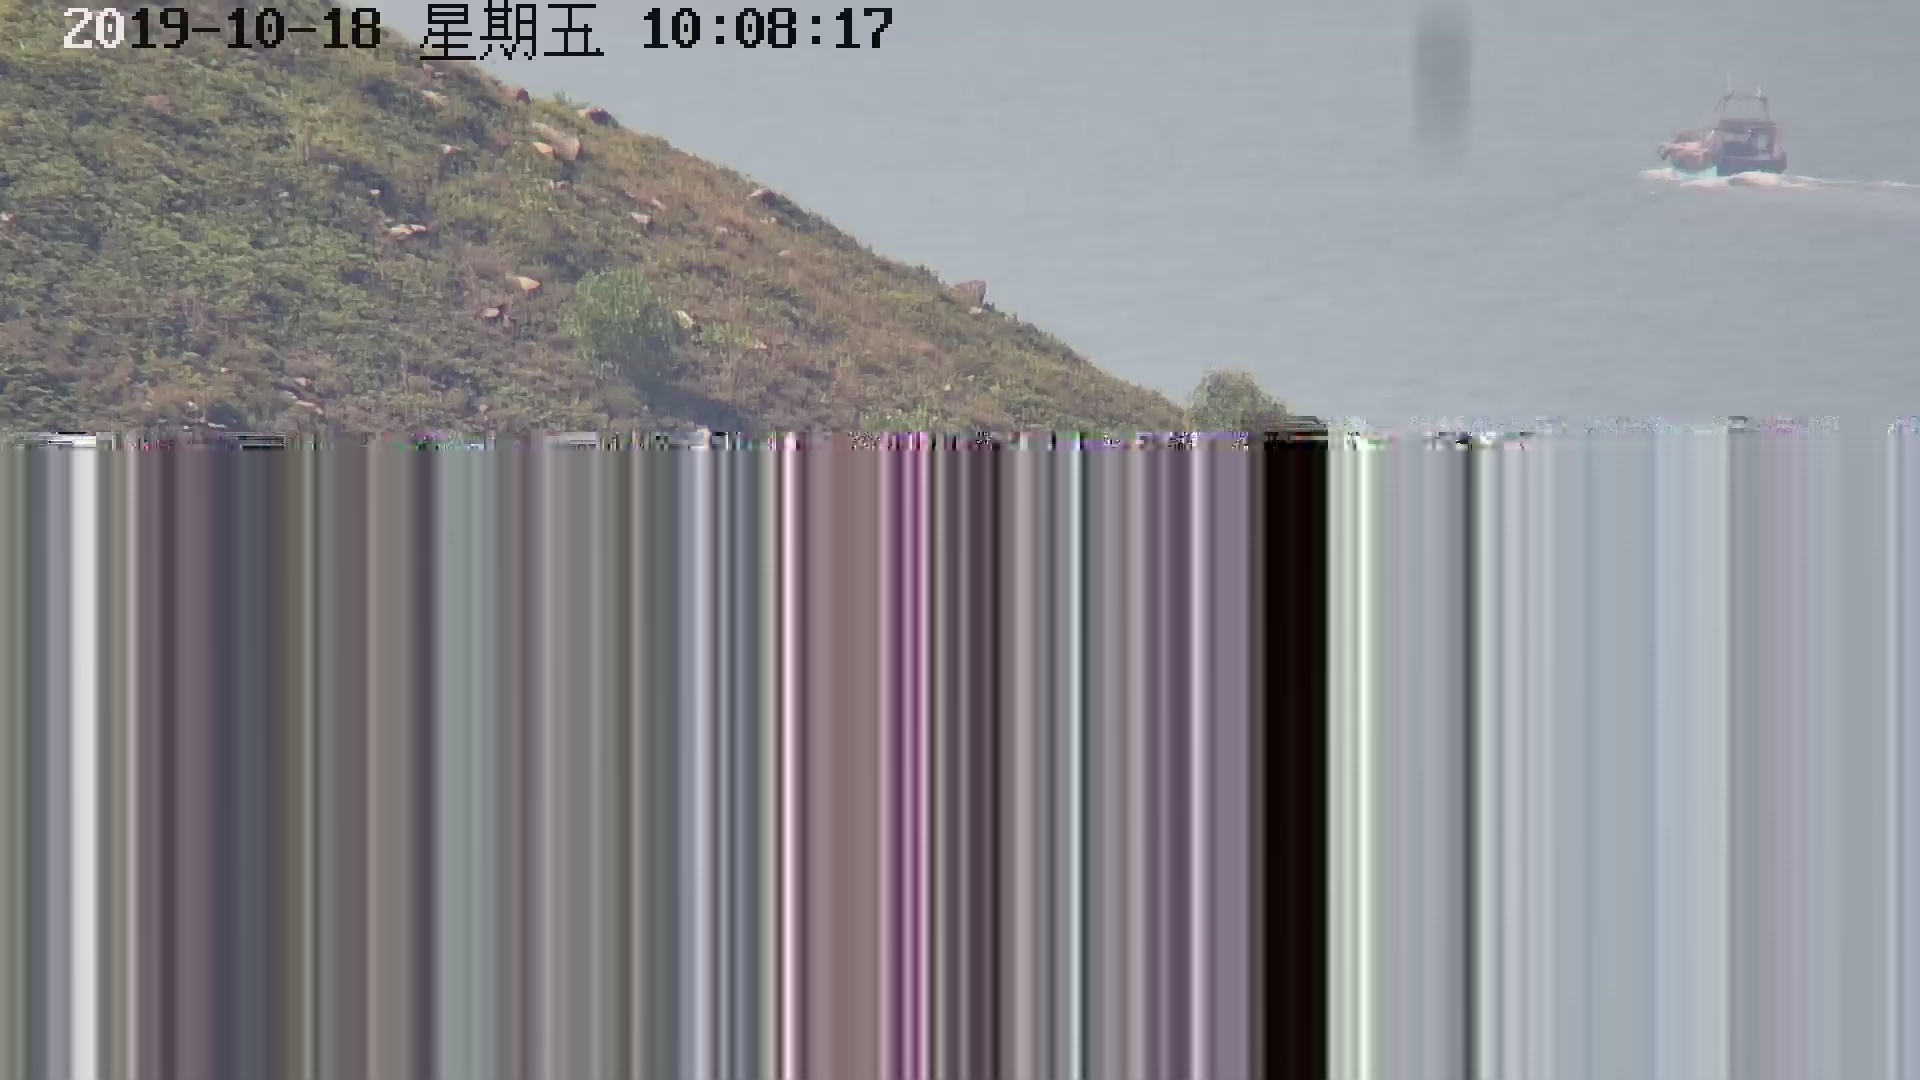ship: (1655, 78, 1785, 182)
